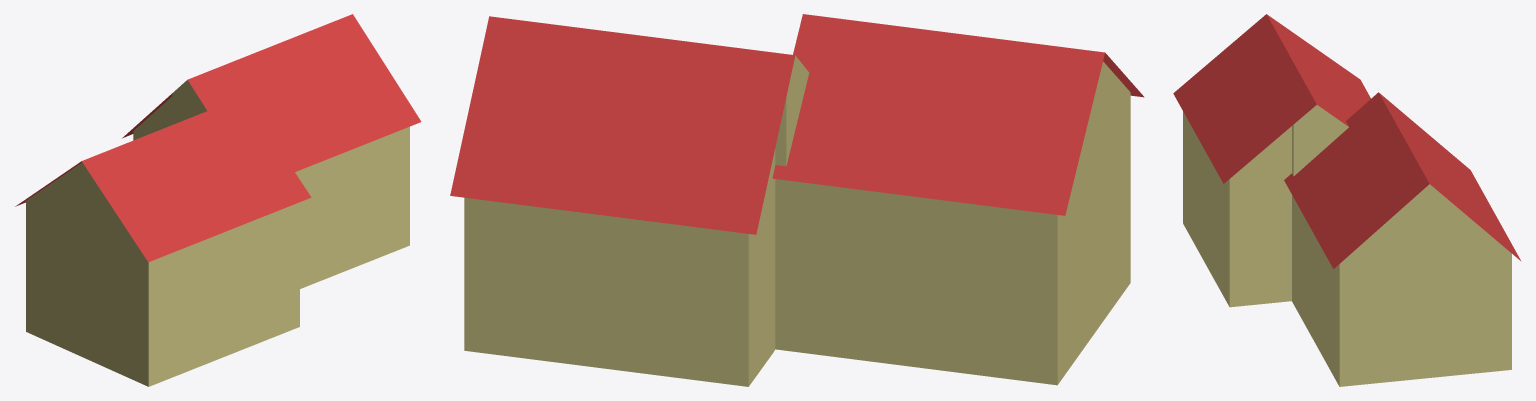
3 views of the same model, side by side, from view 1: azimuth 30°, elevation 25°; view 2: azimuth 150°, elevation 25°; view 3: azimuth 270°, elevation 25° (orthographic). The views are drawn at different scales.
Size of the model in its own units: 27.79 by 21.67 by 13.55.
